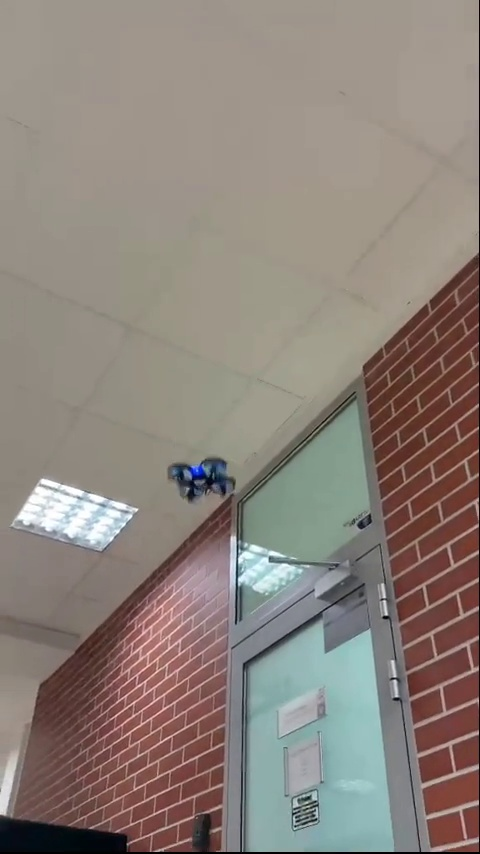drone: (164, 452, 236, 503)
